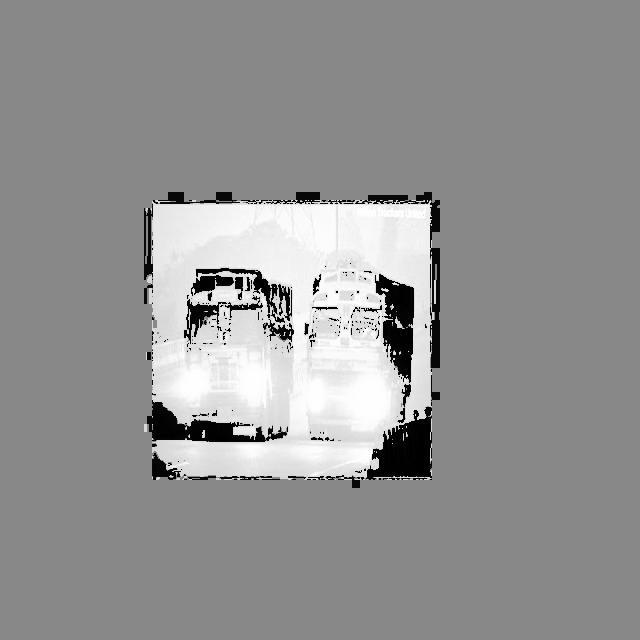Truck: (302, 249, 415, 441), (181, 265, 294, 442)
